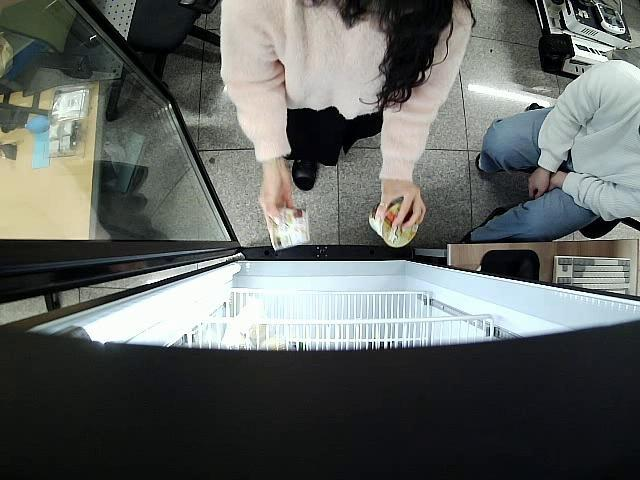04_chapagetti_S: (367, 199, 418, 248), (268, 205, 312, 252)
